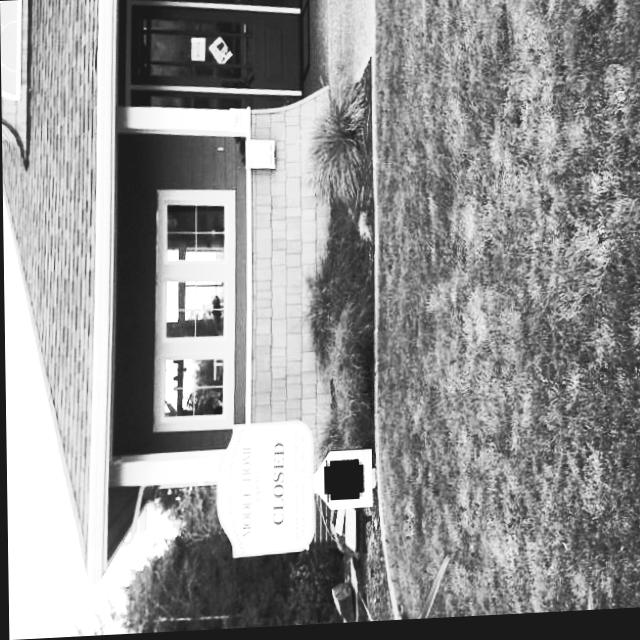qr_code: (326, 465, 361, 501)
